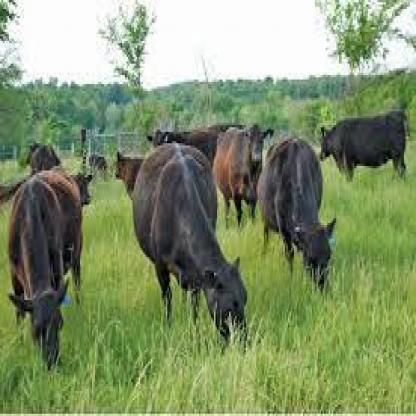cow: (130, 142, 251, 349), (255, 135, 337, 299), (6, 178, 72, 376), (31, 172, 93, 292), (320, 109, 412, 187), (214, 122, 274, 230), (147, 128, 221, 170), (114, 150, 148, 200), (26, 140, 62, 174)
